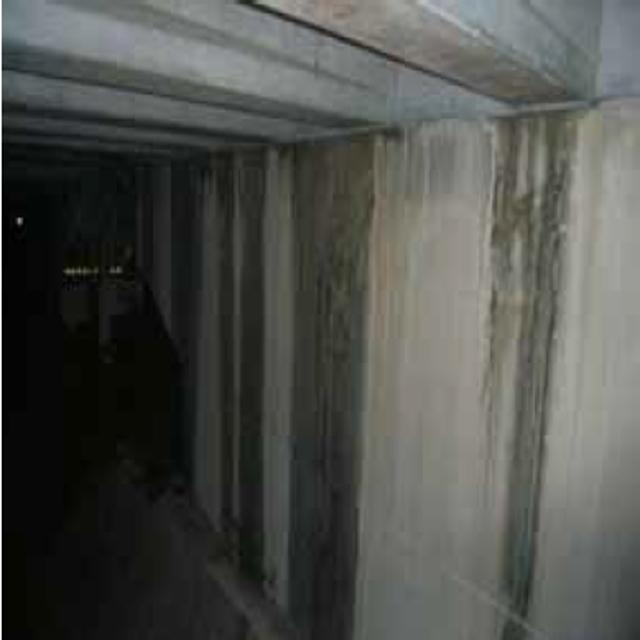leakage: (153, 133, 381, 608), (461, 94, 576, 640)
